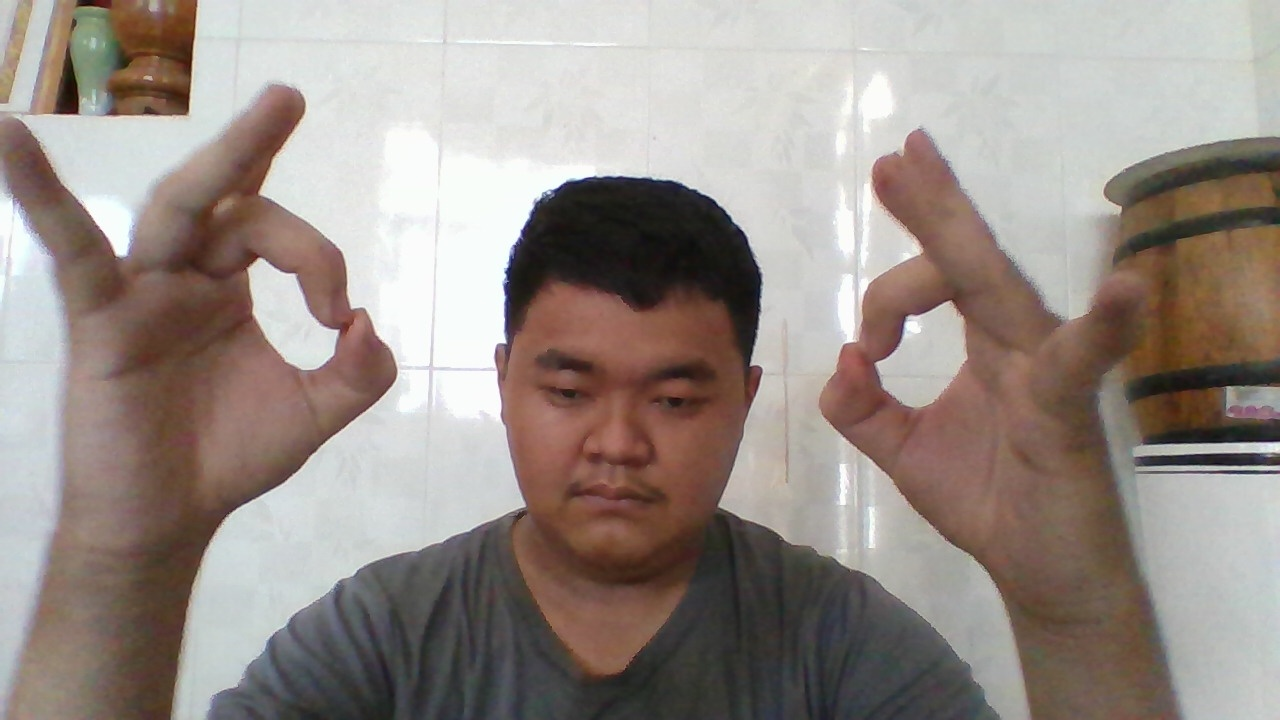H: (0, 93, 389, 535), (831, 150, 1152, 601)
